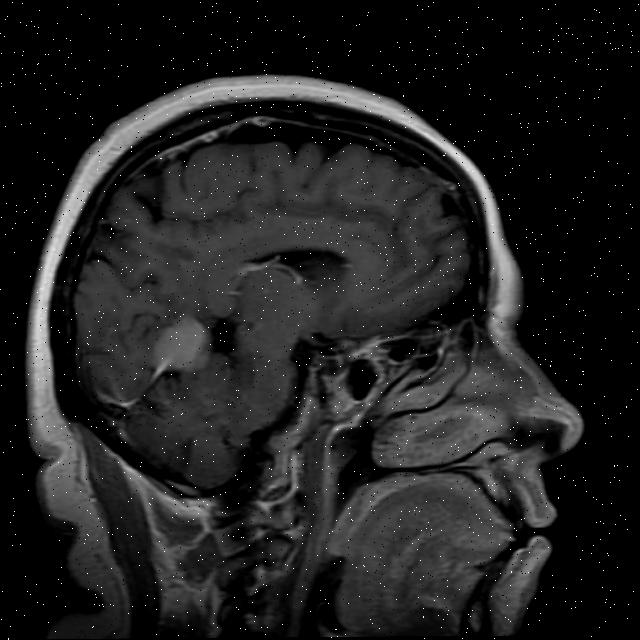Meningioma: (150, 316, 215, 373)
